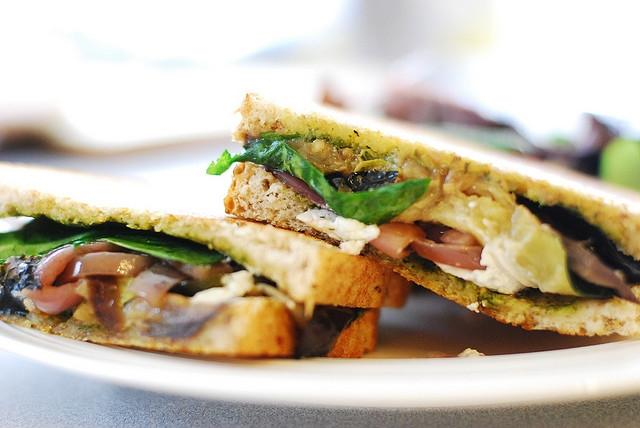lettuce: (206, 131, 433, 226), (3, 216, 230, 266)
